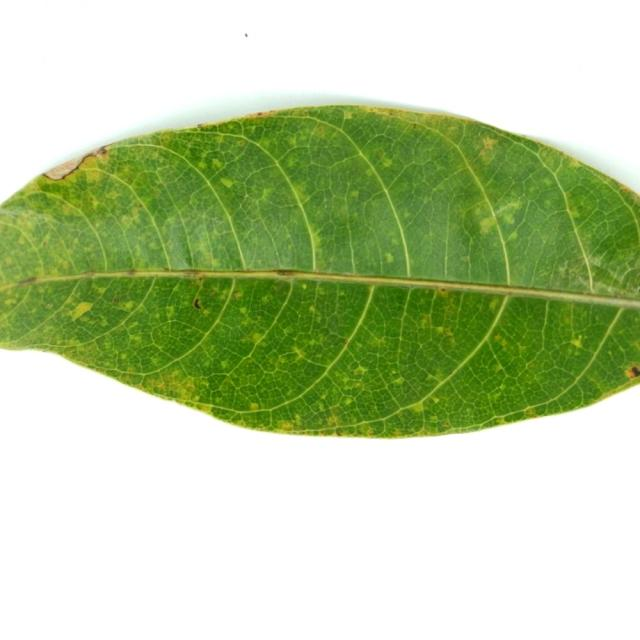Mango: (0, 106, 639, 436)
Powdery_Mildew: (570, 263, 640, 301), (0, 199, 63, 241), (338, 181, 361, 272), (110, 196, 148, 228), (149, 369, 192, 394), (77, 361, 124, 380), (45, 157, 84, 179), (67, 301, 98, 325), (477, 214, 499, 234), (420, 160, 440, 177), (308, 231, 323, 253), (250, 109, 280, 118), (182, 269, 203, 280), (482, 136, 497, 151), (557, 262, 570, 279), (407, 401, 425, 413), (570, 335, 585, 349), (259, 187, 274, 201), (625, 365, 640, 378), (495, 335, 509, 348), (17, 276, 37, 285), (488, 298, 500, 312), (219, 177, 234, 188), (567, 156, 582, 167), (425, 373, 441, 383), (372, 337, 388, 347), (353, 365, 367, 376), (326, 415, 339, 426), (618, 184, 632, 194), (211, 158, 223, 169), (507, 231, 519, 242), (420, 315, 432, 326), (278, 356, 290, 367), (192, 297, 202, 310), (81, 270, 97, 278), (251, 333, 263, 343), (567, 205, 579, 215), (276, 269, 292, 276), (384, 252, 394, 263), (381, 158, 392, 168), (285, 158, 296, 168), (96, 286, 108, 295), (524, 407, 536, 416), (437, 289, 450, 297), (210, 258, 220, 268), (124, 301, 135, 310), (294, 351, 305, 360), (363, 427, 374, 436), (280, 423, 294, 430), (126, 268, 138, 276), (390, 237, 400, 246), (349, 190, 359, 199), (365, 168, 375, 177), (261, 295, 271, 304), (131, 335, 142, 343), (498, 416, 509, 424), (518, 344, 527, 353), (494, 364, 503, 373), (315, 125, 324, 134), (99, 146, 108, 155), (435, 327, 445, 335), (343, 111, 353, 119), (393, 378, 404, 385), (221, 360, 230, 368), (461, 255, 470, 263), (288, 136, 296, 145), (284, 327, 293, 335), (343, 398, 353, 405), (392, 429, 402, 436), (167, 306, 175, 314), (233, 291, 241, 299), (324, 261, 332, 269), (353, 381, 362, 388), (250, 403, 259, 410), (432, 397, 440, 404), (321, 393, 329, 400), (308, 305, 316, 312), (240, 306, 248, 313), (403, 212, 411, 219), (443, 420, 451, 427), (112, 296, 120, 303), (385, 110, 394, 116), (294, 414, 301, 421), (301, 283, 308, 290), (314, 268, 322, 274), (196, 123, 203, 129), (391, 369, 397, 375), (120, 354, 126, 360), (412, 123, 418, 129), (163, 267, 171, 271), (344, 339, 349, 345), (336, 431, 342, 436), (319, 430, 325, 435), (210, 291, 216, 296), (257, 259, 263, 264), (47, 303, 52, 308)
